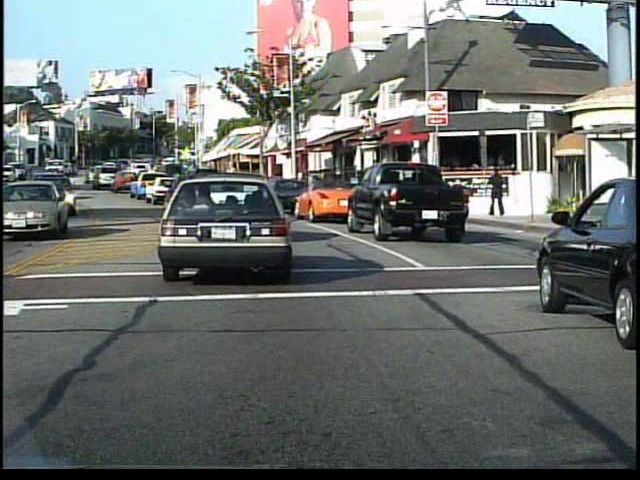person: (486, 168, 506, 223)
